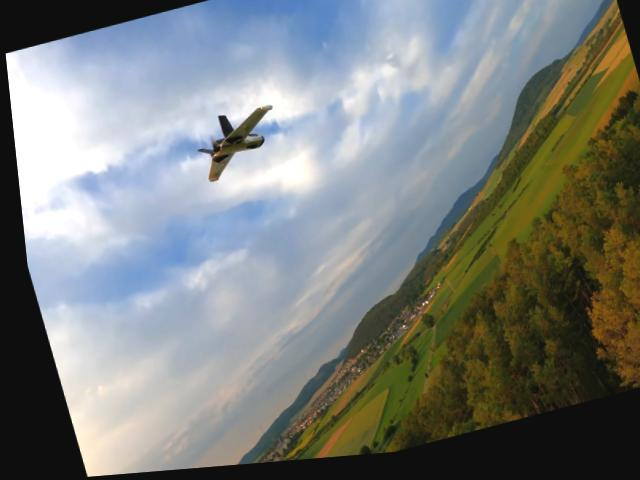plane: (186, 105, 285, 188)
